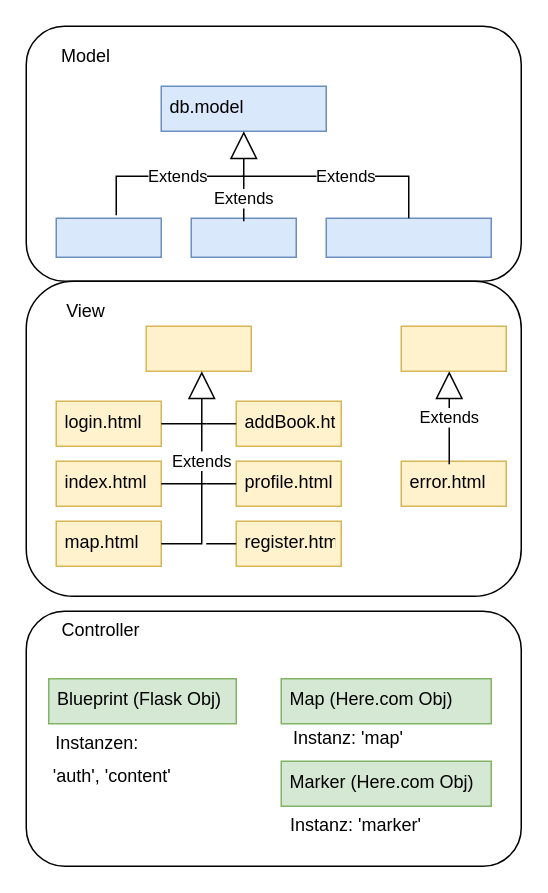
Image size: 548x893. Some labels were removed from this diagram. The box of each missing label's shape, as (x1, y1, x2, y2) in pixels:
404.html: (400, 325, 506, 371)
base.html: (145, 325, 251, 371)
BookModel: (55, 217, 161, 257)
HidingPlaceModel: (325, 217, 491, 257)
UserModel: (190, 217, 296, 257)
